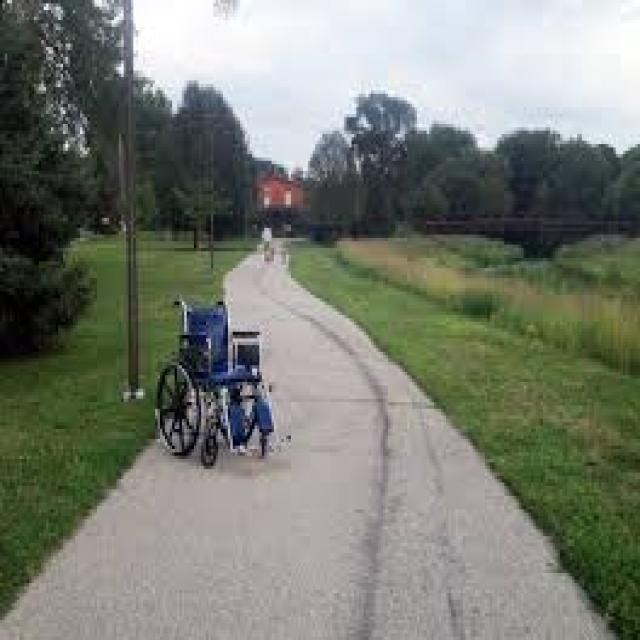wheelchairs: (155, 292, 298, 489)
